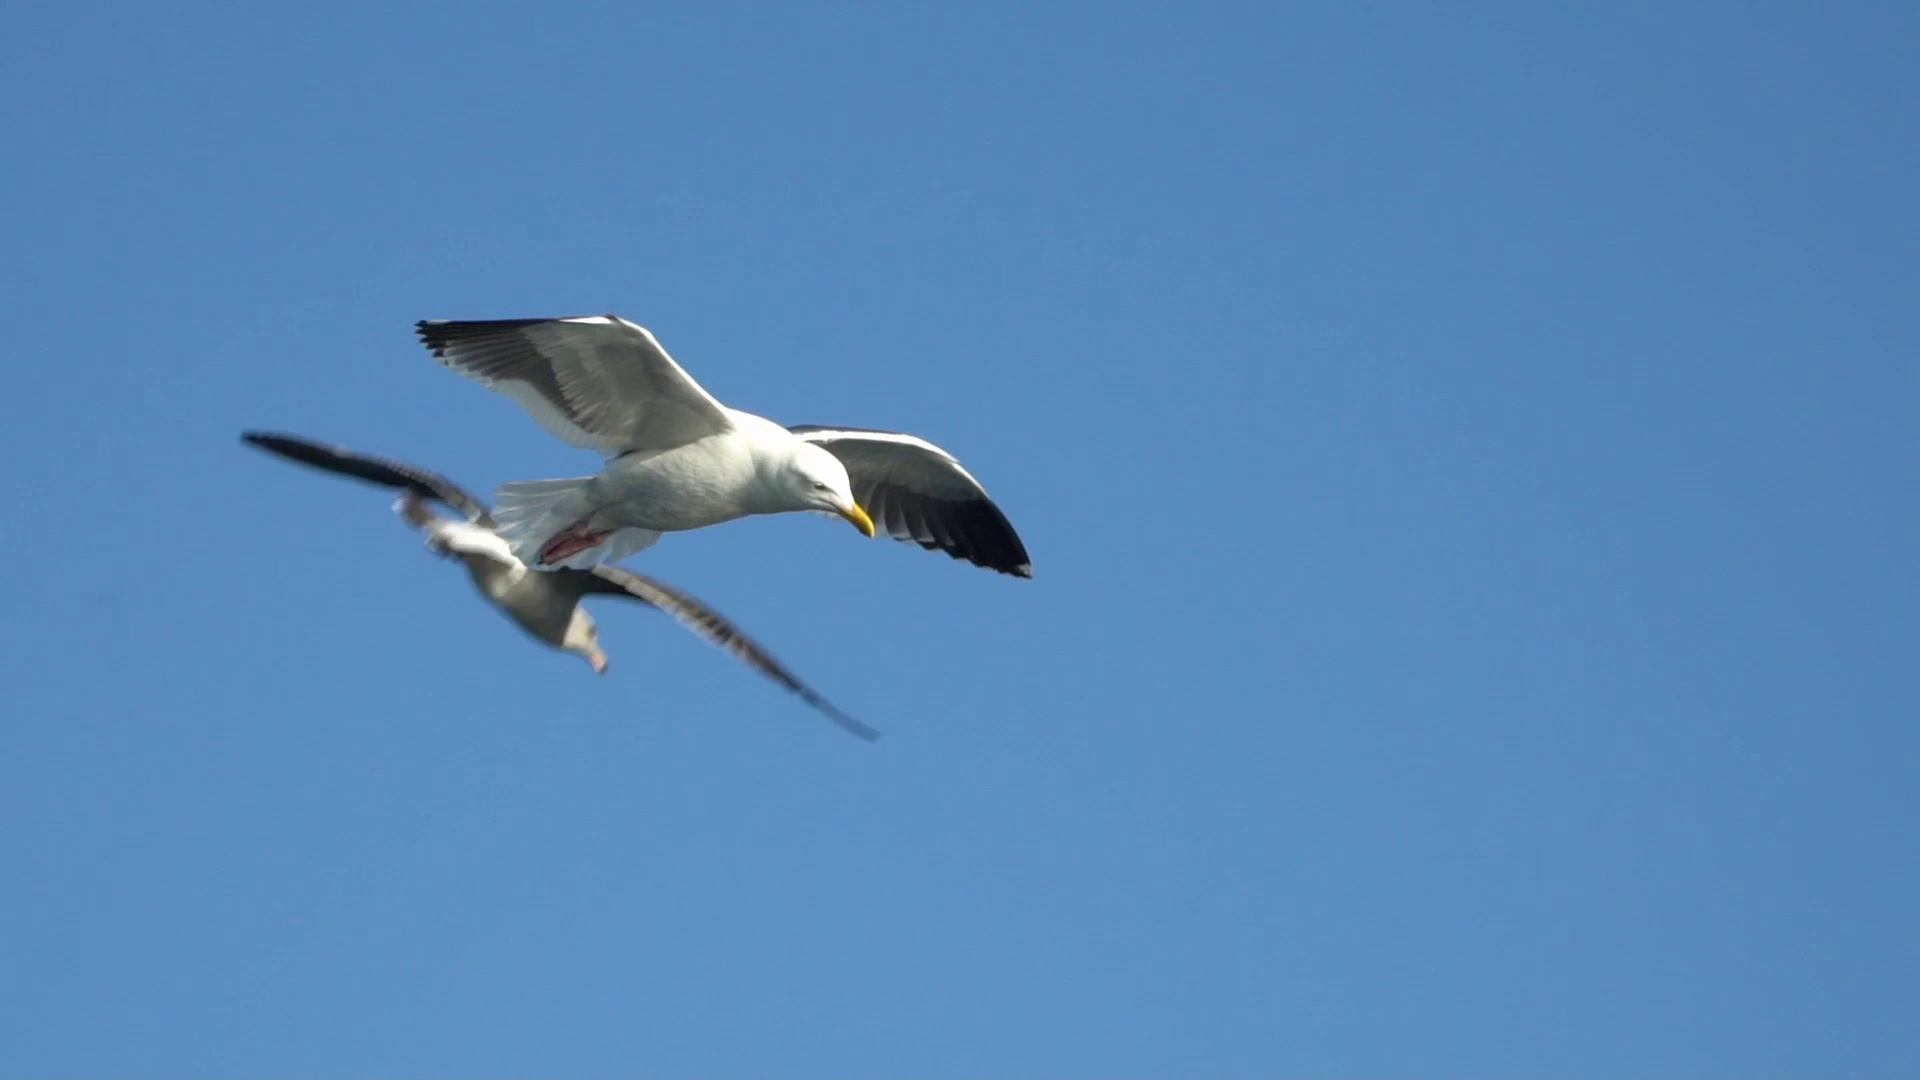bird: (236, 425, 882, 741), (415, 316, 1033, 579)
